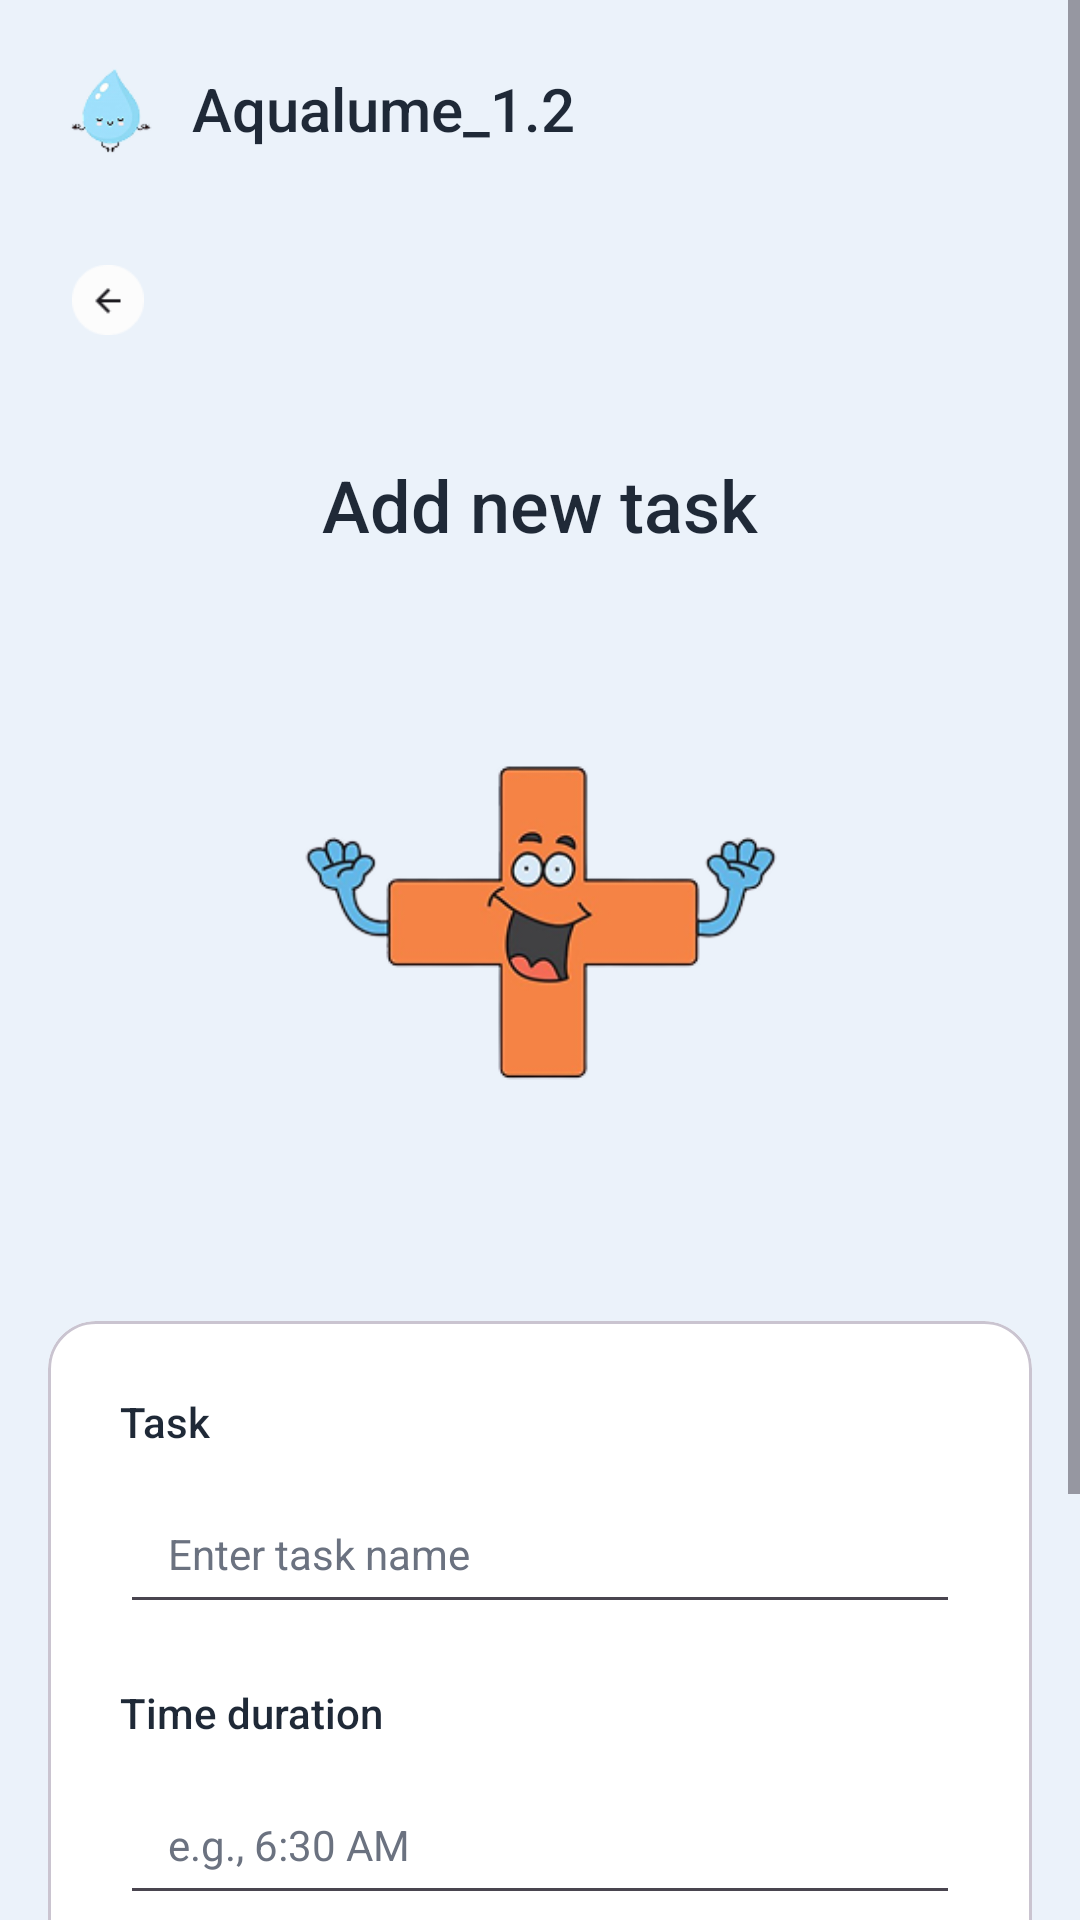

Icons on this 1080x1920 Android screen, each with its box as detection(x1, y1, x2, y2):
Back: detection(72, 265, 144, 335)
